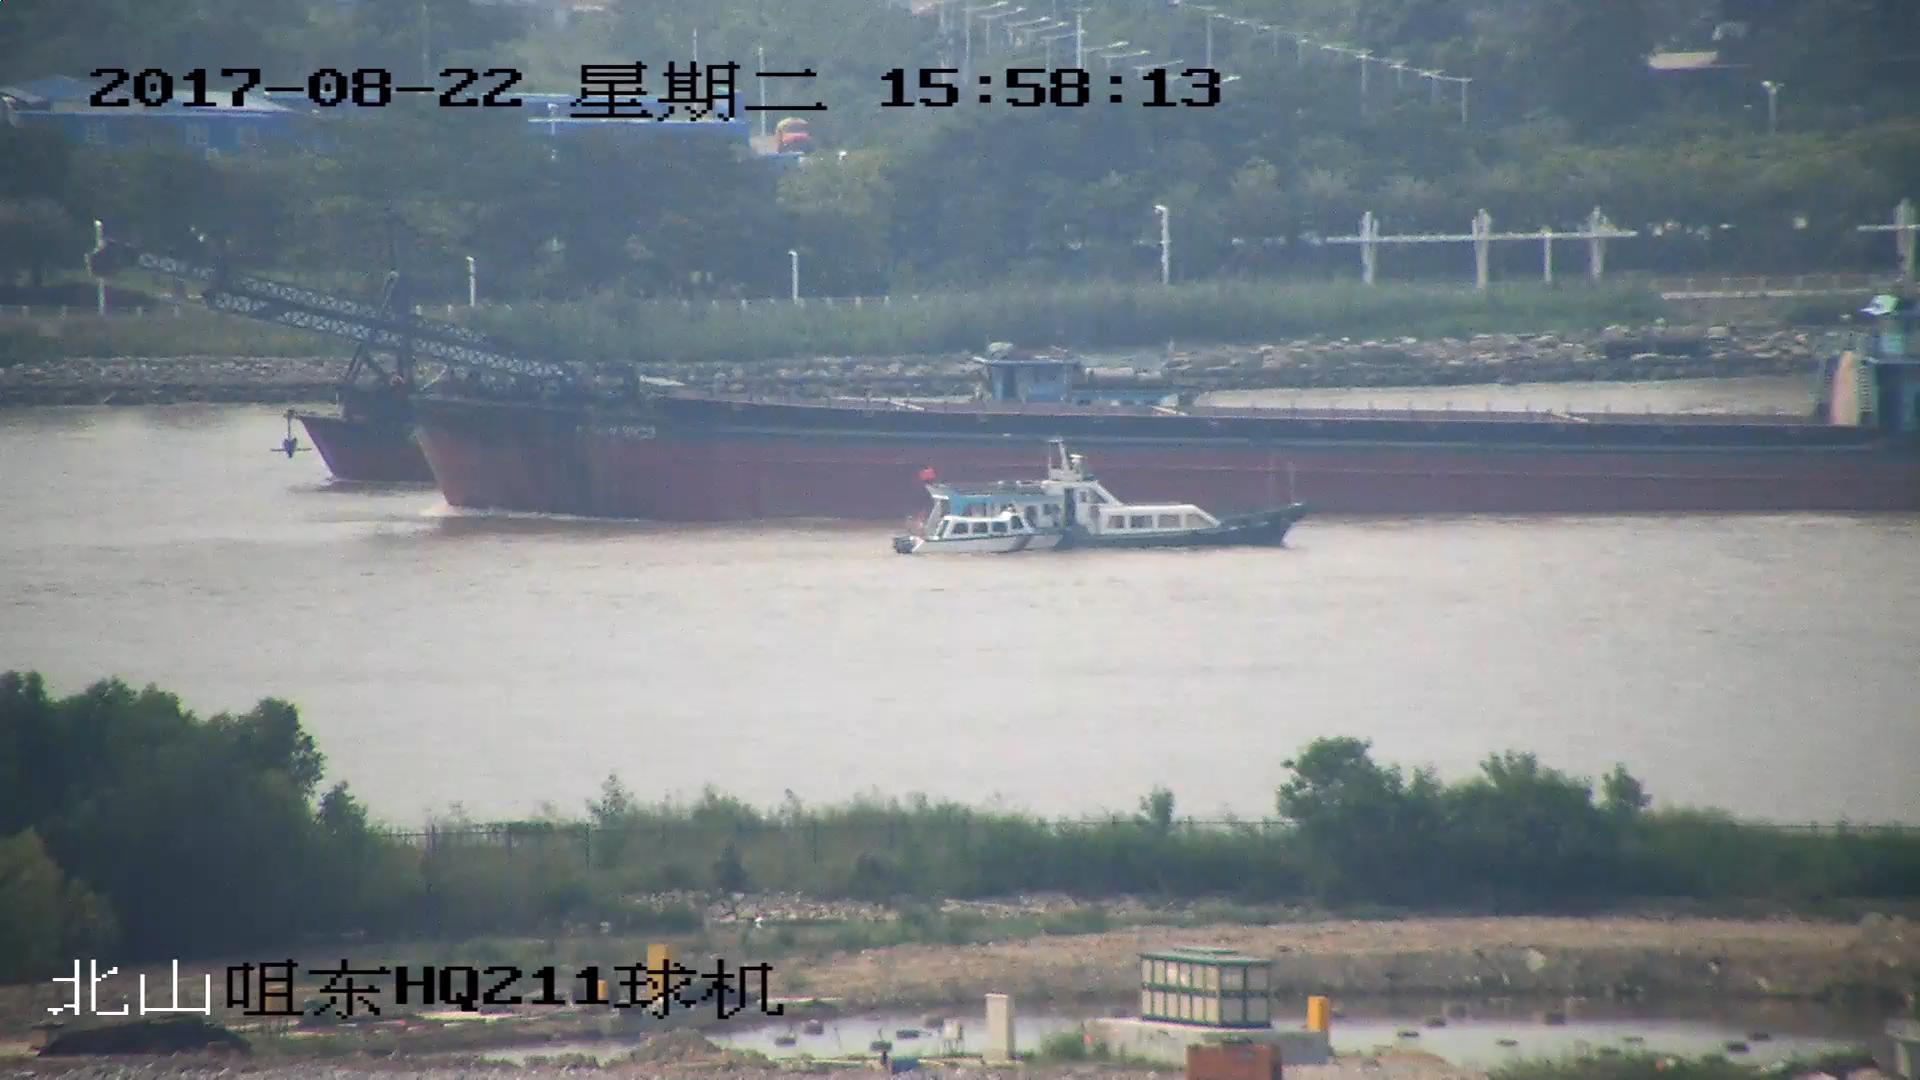bulk cargo carrier: (95, 242, 1920, 525), (278, 407, 440, 482)
fishing boat: (893, 444, 1308, 552)
